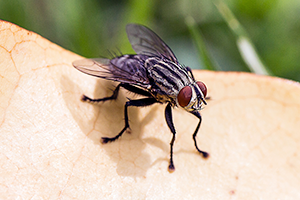fly: (70, 22, 212, 174)
